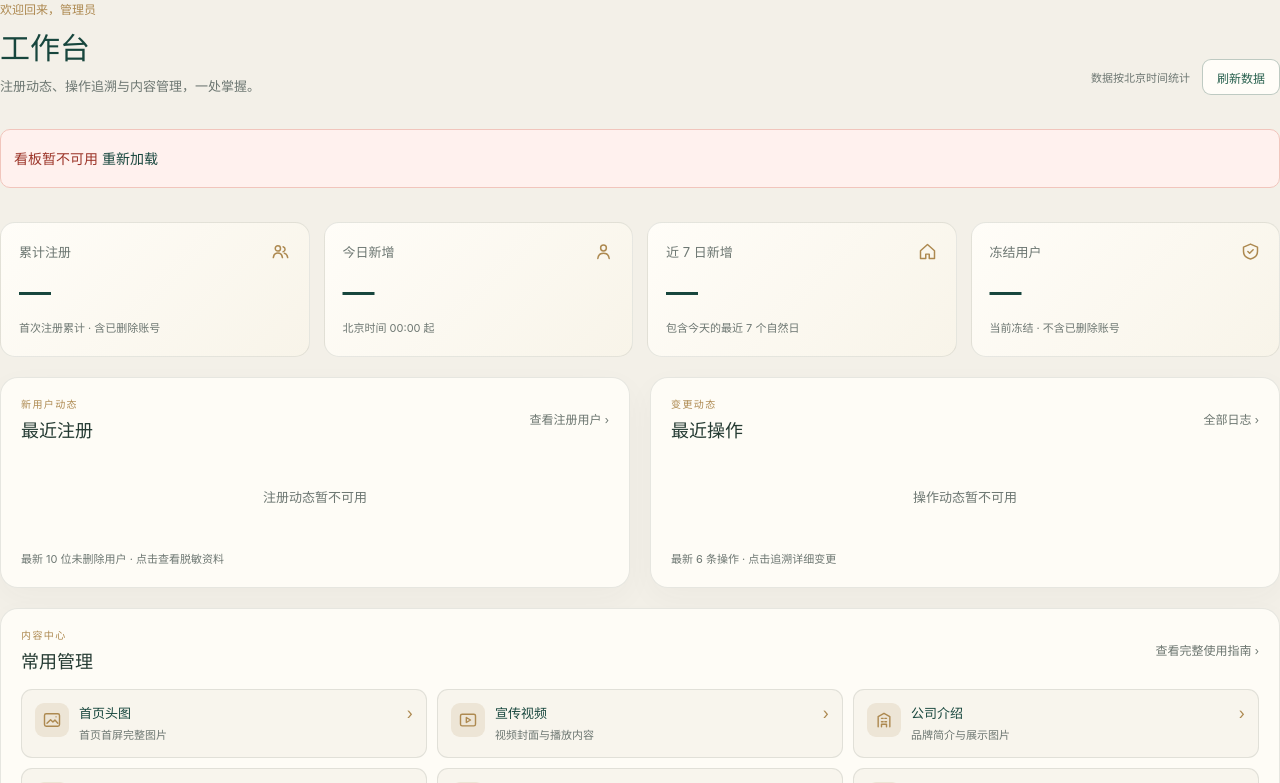
it: DashboardPage › does not turn a failed request into fabricated zero metrics and supports retry
Expected: the message shows "看板暂不可用", [14,150,98,167]
Expected: the text "—" is shown 4 times, [19,272,51,311]; [342,272,374,311]; [666,272,698,311]; [990,272,1022,311]
Click the button "重新加载": (130, 158) [102,141,158,176]
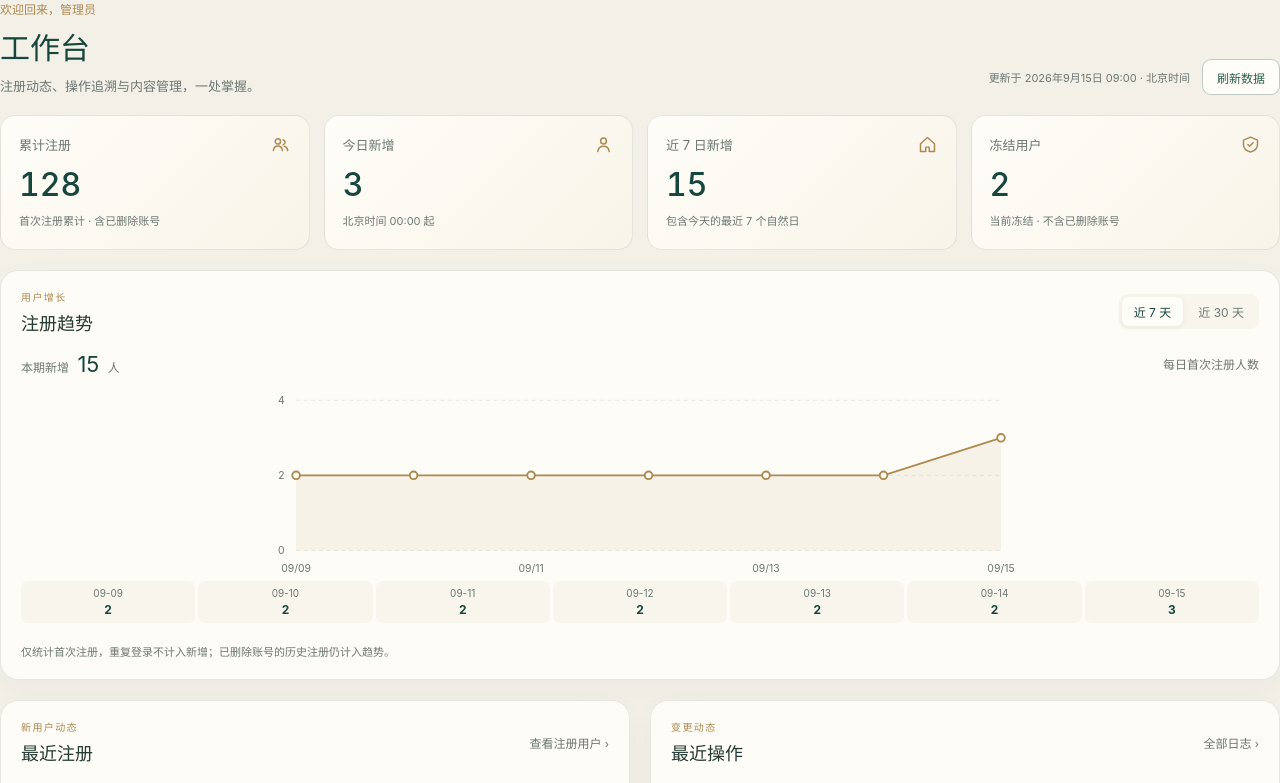
Expected: the text "128" is shown, [19,165,81,204]
